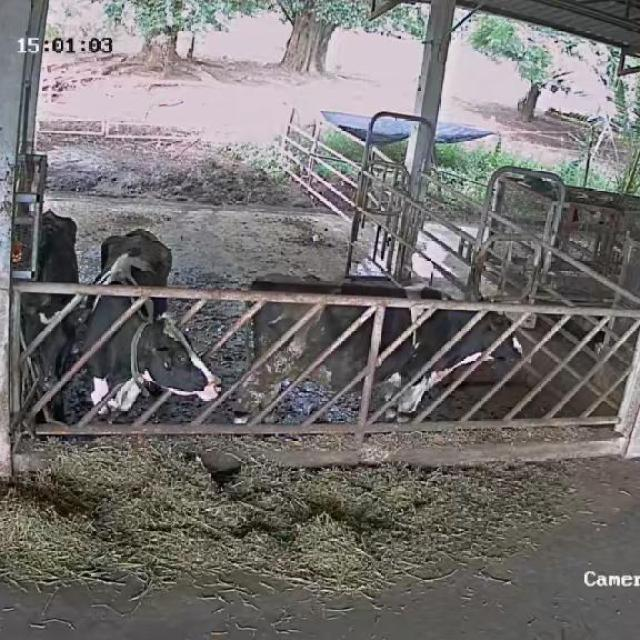feeding: (84, 229, 220, 430)
standing: (241, 268, 538, 432), (17, 208, 83, 420)
